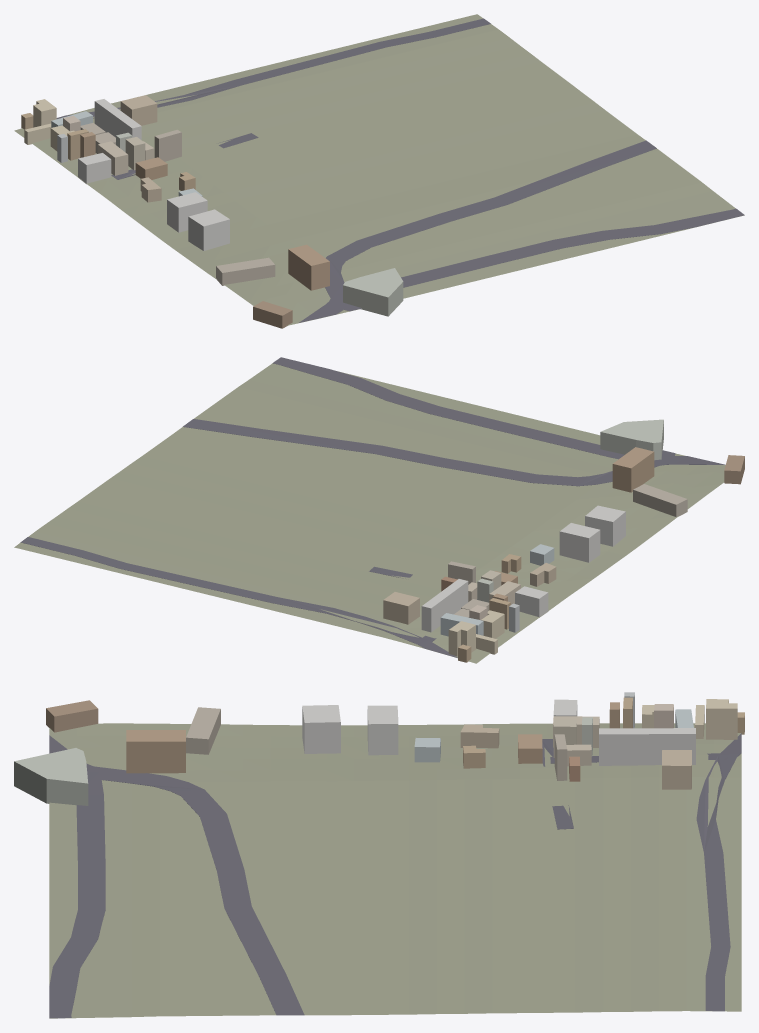
Rendered from chunk_11_3.glb.
The picture shows the model from 3 angles, top to bottom: view 1: azimuth 30°, elevation 25°; view 2: azimuth 150°, elevation 25°; view 3: azimuth 270°, elevation 25°; orthographic projection. The views are drawn at different scales.
Visible parts, largest first — view 1: geometry_30, geometry_34, geometry_33, geometry_38, geometry_4, geometry_14, geometry_1, geometry_15, geometry_18, geometry_2, geometry_17, geometry_9 (+5 smaller); view 2: geometry_30, geometry_34, geometry_33, geometry_38, geometry_4, geometry_14, geometry_18, geometry_2, geometry_1, geometry_15, geometry_17, geometry_9 (+4 smaller); view 3: geometry_30, geometry_34, geometry_33, geometry_38, geometry_4, geometry_18, geometry_14, geometry_1, geometry_2, geometry_5, geometry_15, geometry_28 (+6 smaller).
Part boxes in pixels (box(x1,y1,x2,y2)): geometry_30: box(14, 14, 744, 325); geometry_34: box(325, 140, 656, 299); geometry_33: box(336, 208, 744, 299); geometry_38: box(56, 18, 490, 118); geometry_4: box(343, 268, 403, 316); geometry_14: box(288, 244, 329, 290); geometry_1: box(188, 209, 229, 250); geometry_15: box(216, 257, 275, 285); geometry_18: box(94, 99, 141, 139); geometry_2: box(167, 192, 207, 232); geometry_17: box(120, 95, 157, 125); geometry_9: box(78, 153, 111, 183); geometry_30: box(14, 363, 725, 663); geometry_34: box(183, 419, 661, 486); geometry_33: box(272, 357, 656, 461); geometry_38: box(20, 537, 457, 657); geometry_4: box(600, 419, 663, 460); geometry_14: box(612, 447, 654, 492); geometry_18: box(421, 579, 468, 632); geometry_2: box(559, 523, 600, 562); geometry_1: box(585, 505, 625, 546); geometry_15: box(633, 484, 687, 516); geometry_17: box(383, 592, 419, 624); geometry_9: box(515, 586, 548, 617); geometry_30: box(49, 723, 741, 1018); geometry_34: box(87, 766, 304, 1015); geometry_33: box(49, 771, 105, 1018); geometry_38: box(696, 733, 741, 1011); geometry_4: box(14, 748, 88, 805); geometry_18: box(599, 728, 695, 765); geometry_14: box(126, 730, 185, 773); geometry_1: box(302, 705, 340, 753); geometry_2: box(367, 705, 398, 755); geometry_5: box(46, 700, 98, 732); geometry_15: box(186, 707, 220, 754); geometry_28: box(706, 699, 737, 739).
Size of the model in its own units: 257 by 15.53 by 264.
